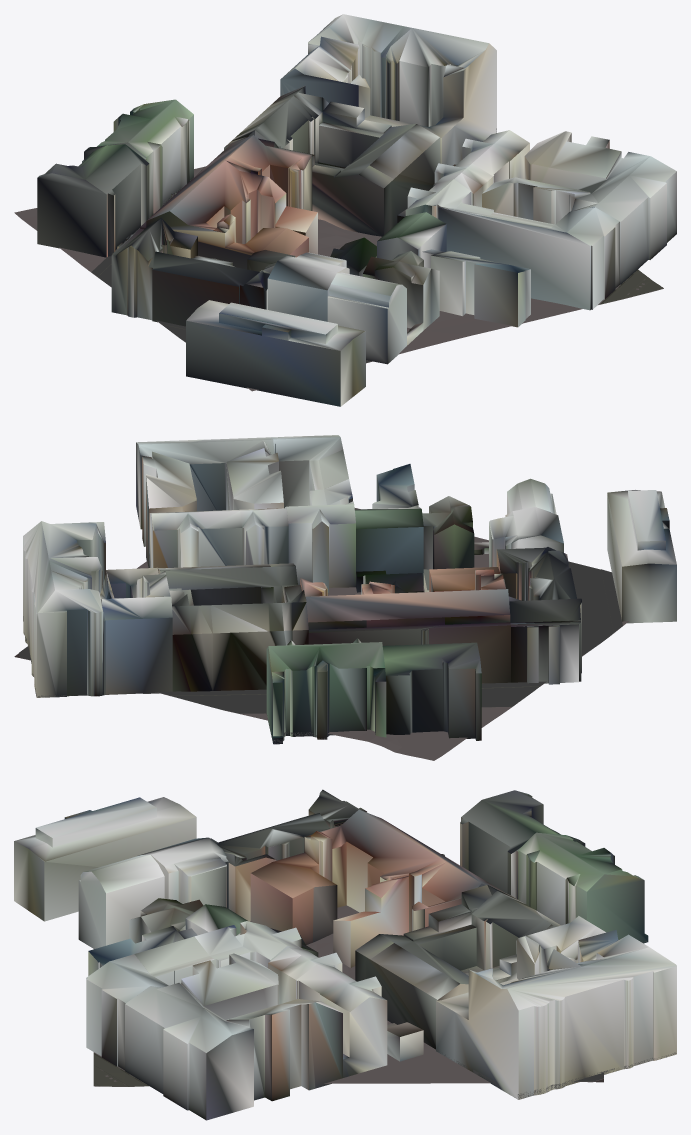
3 views of the same model, one above another, from view 1: azimuth 30°, elevation 25°; view 2: azimuth 150°, elevation 25°; view 3: azimuth 270°, elevation 25° (orthographic). The views are drawn at different scales.
Parts seen in each view (by area): view 1: c_m05_p04; view 2: c_m05_p04; view 3: c_m05_p04.
Boxes of the visible parts, x1=… form: c_m05_p04: x1=14, y1=14, x2=676, y2=406; c_m05_p04: x1=14, y1=435, x2=676, y2=760; c_m05_p04: x1=14, y1=789, x2=676, y2=1120.
Bounding box in the file's own units: 159 × 30.54 × 166.
